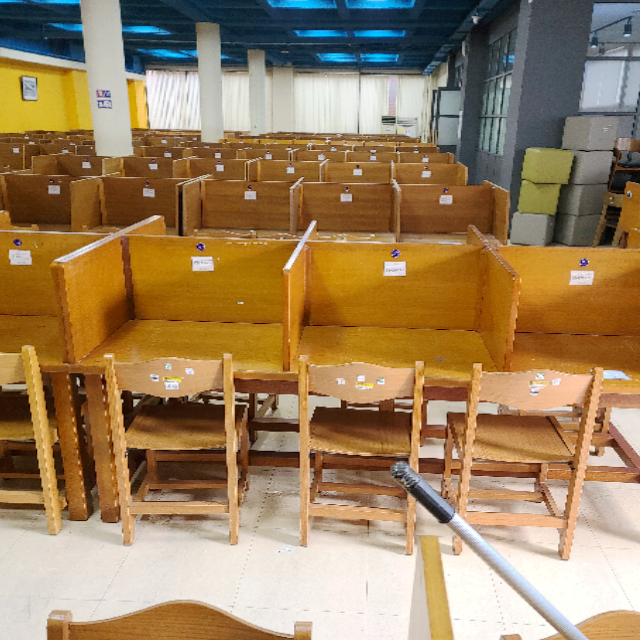empty: (68, 256, 284, 437), (291, 257, 512, 433), (518, 242, 640, 429)
